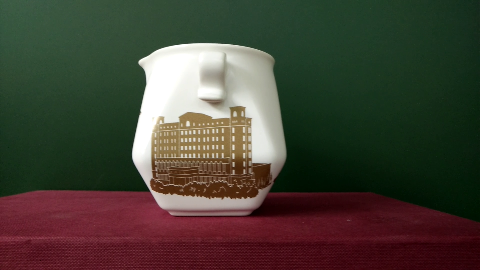law: (158, 126, 261, 192)
